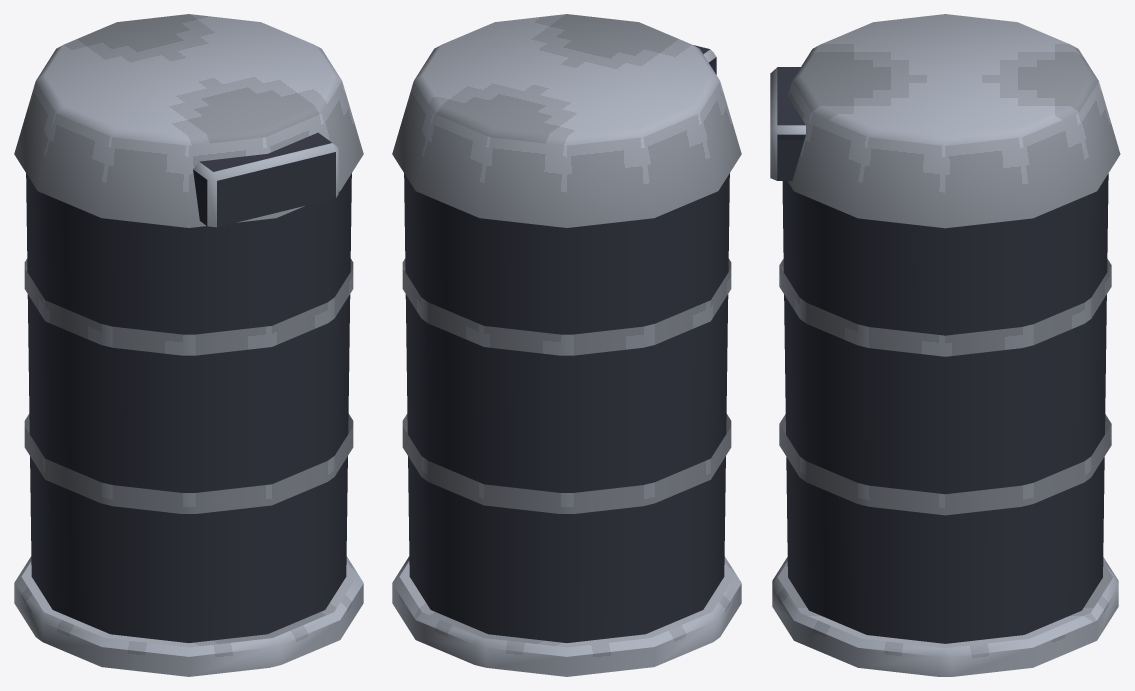
The model's file is trash_bin_0.glb.
3 views of the same model, side by side, from view 1: azimuth 30°, elevation 25°; view 2: azimuth 150°, elevation 25°; view 3: azimuth 270°, elevation 25° (orthographic).
Visible parts, largest first — view 1: trash_bin_1; view 2: trash_bin_1; view 3: trash_bin_1.
Part boxes in pixels (left/top/right/bottom): trash_bin_1: left=14, top=14, right=363, bottom=676; trash_bin_1: left=392, top=14, right=741, bottom=676; trash_bin_1: left=770, top=14, right=1120, bottom=676.
Bounding box in the file's own units: 0.6 × 1 × 0.6.
Materials: 2 (2 with a texture image).
